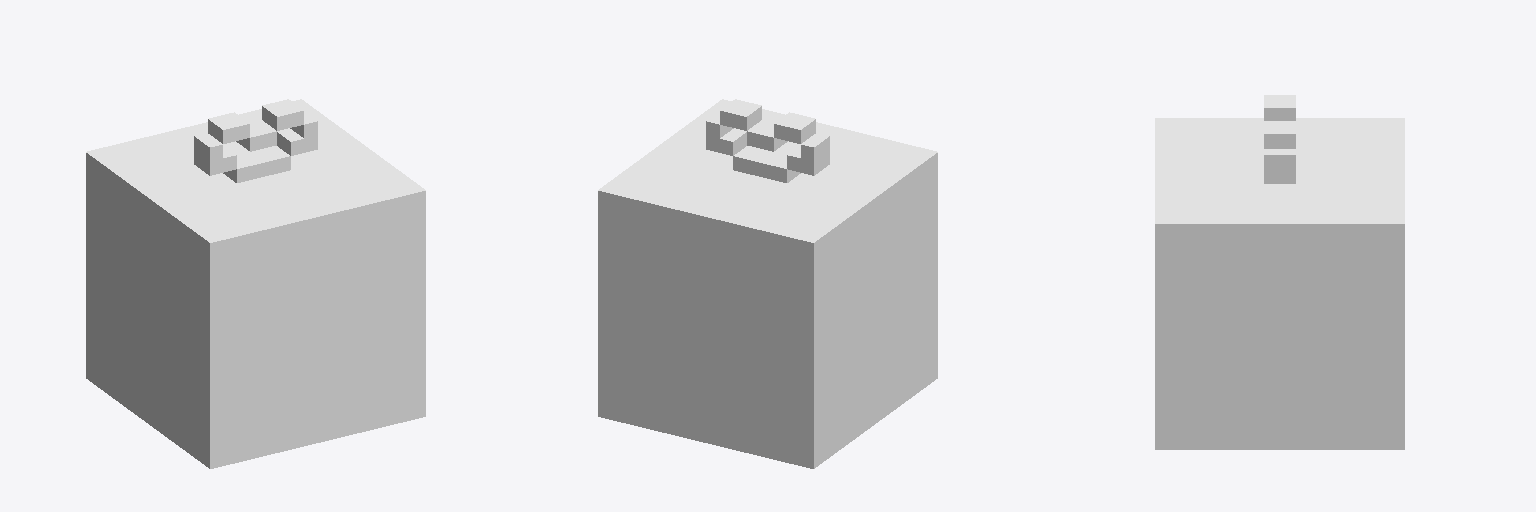
Rendered from blue_present.obj.
3 views of the same model, side by side, from view 1: azimuth 30°, elevation 25°; view 2: azimuth 150°, elevation 25°; view 3: azimuth 270°, elevation 25° (orthographic).
Parts seen in each view (by area): view 1: object 1; view 2: object 1; view 3: object 1.
Part boxes in pixels (bbox=[...]): object 1: bbox=[86, 99, 425, 468]; object 1: bbox=[598, 99, 937, 468]; object 1: bbox=[1155, 95, 1404, 449].
Bounding box in the file's own units: 1.6 × 2 × 1.6.